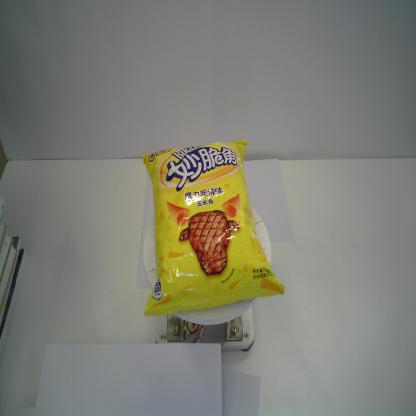Puffed Food: (140, 134, 286, 318)
